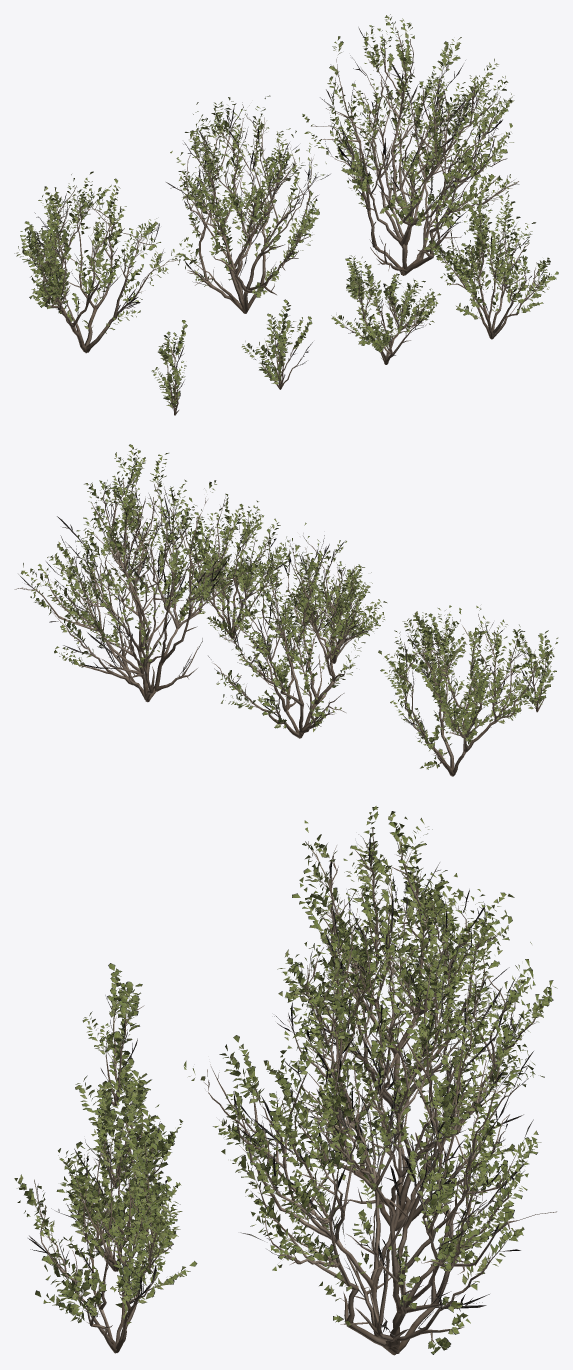
Rendered from bush_dry.glb.
3 renders of one model, top to bottom at view 1: azimuth 30°, elevation 25°; view 2: azimuth 150°, elevation 25°; view 3: azimuth 270°, elevation 25°, orthographic. The views are drawn at different scales.
Parts seen in each view (by area): view 1: searsia_lucida_a_LOD0, searsia_lucida_b_LOD0, searsia_lucida_c_LOD0, searsia_lucida_d_LOD0, searsia_lucida_e_LOD0, searsia_lucida_f_LOD0, searsia_lucida_g_LOD0; view 2: searsia_lucida_a_LOD0, searsia_lucida_b_LOD0, searsia_lucida_c_LOD0, searsia_lucida_d_LOD0, searsia_lucida_e_LOD0, searsia_lucida_f_LOD0, searsia_lucida_g_LOD0; view 3: searsia_lucida_a_LOD0, searsia_lucida_b_LOD0, searsia_lucida_c_LOD0, searsia_lucida_d_LOD0, searsia_lucida_e_LOD0, searsia_lucida_g_LOD0, searsia_lucida_f_LOD0.
Boxes of the visible parts, x1,y1,x2,y2 form: searsia_lucida_a_LOD0: [302, 14, 519, 275]; searsia_lucida_b_LOD0: [166, 95, 330, 313]; searsia_lucida_c_LOD0: [14, 171, 190, 353]; searsia_lucida_d_LOD0: [424, 176, 558, 339]; searsia_lucida_e_LOD0: [331, 255, 440, 364]; searsia_lucida_f_LOD0: [241, 299, 312, 389]; searsia_lucida_g_LOD0: [151, 320, 187, 415]; searsia_lucida_a_LOD0: [14, 444, 266, 702]; searsia_lucida_b_LOD0: [207, 522, 374, 738]; searsia_lucida_c_LOD0: [378, 605, 558, 776]; searsia_lucida_d_LOD0: [174, 493, 295, 638]; searsia_lucida_e_LOD0: [280, 564, 386, 663]; searsia_lucida_f_LOD0: [402, 611, 466, 686]; searsia_lucida_g_LOD0: [512, 629, 556, 712]; searsia_lucida_a_LOD0: [184, 950, 556, 1355]; searsia_lucida_b_LOD0: [274, 876, 557, 1231]; searsia_lucida_c_LOD0: [278, 806, 514, 1109]; searsia_lucida_d_LOD0: [14, 1103, 197, 1353]; searsia_lucida_e_LOD0: [51, 1066, 182, 1271]; searsia_lucida_g_LOD0: [82, 963, 144, 1105]; searsia_lucida_f_LOD0: [75, 1073, 165, 1188].
Size of the model in its own units: 4.76 by 2.32 by 2.83.
3 materials, 3 textured.
